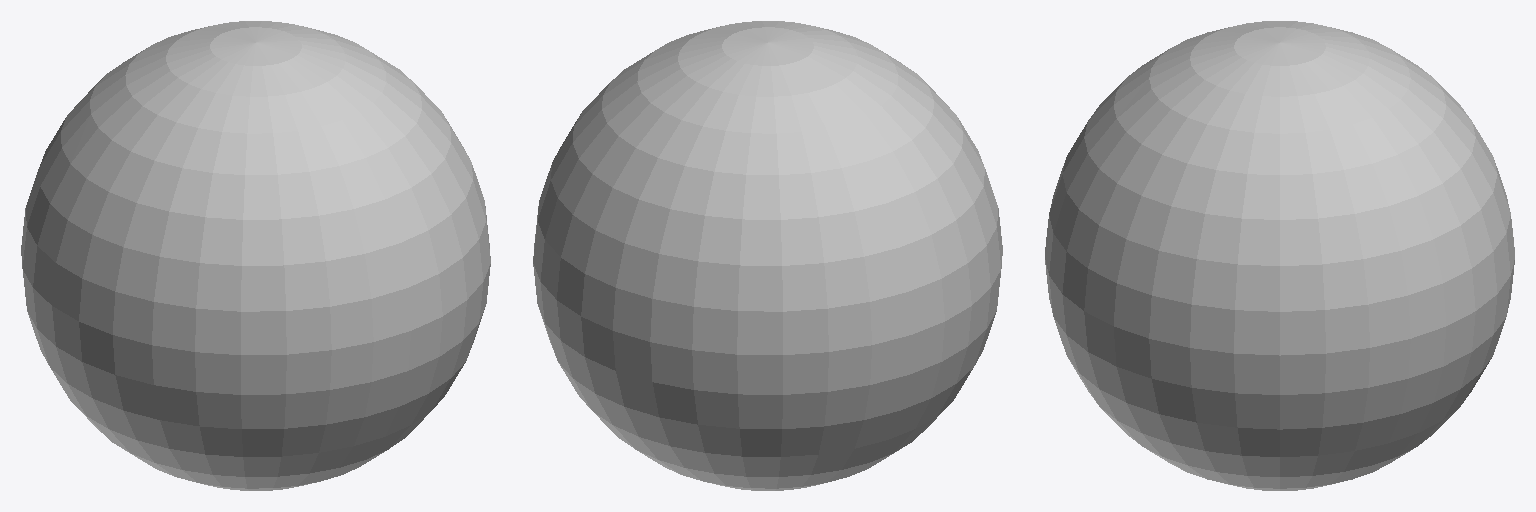
File: ball.obj
3 views of the same model, side by side, from view 1: azimuth 30°, elevation 25°; view 2: azimuth 150°, elevation 25°; view 3: azimuth 270°, elevation 25° (orthographic).
Bounding box in the file's own units: 0.1982 × 0.1982 × 0.1982.